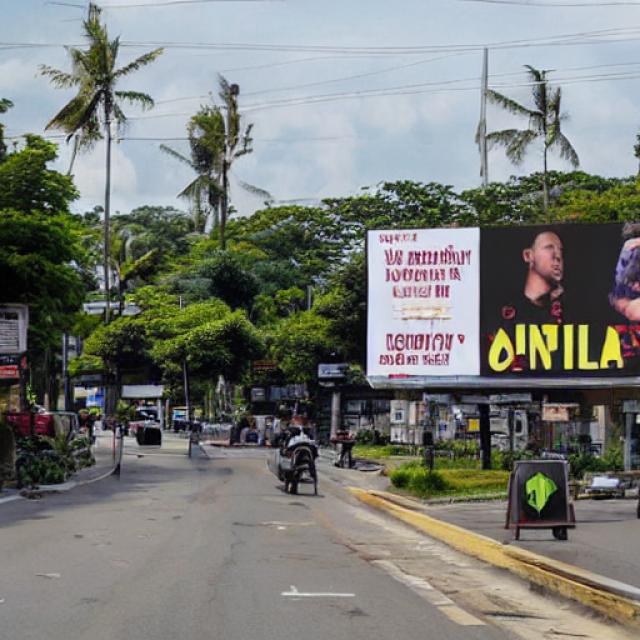Billboard: (366, 224, 640, 388)
